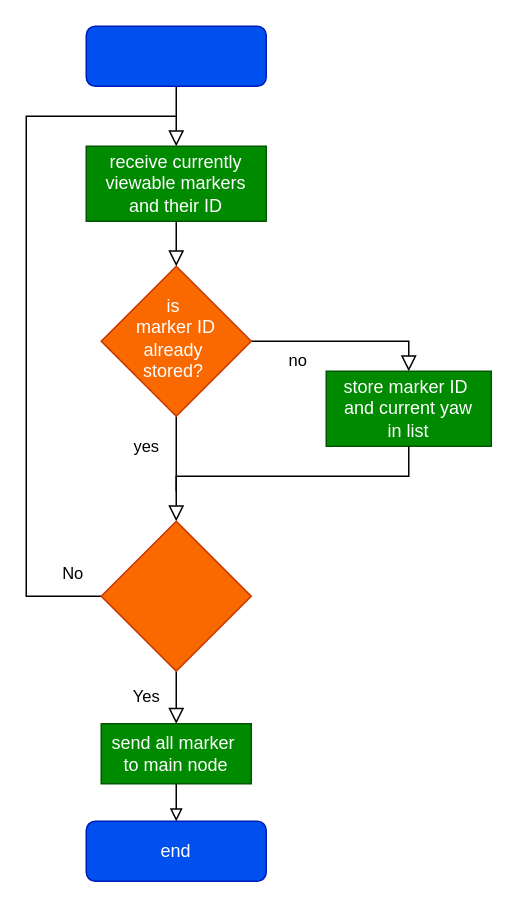
Some shapes in this 518 by 908 pixel diagram are drawn without their labels. Each missing label, with the centre of its shape:
"completed full lap?" belongs at (x=175, y=595).
"start" belongs at (x=175, y=55).
